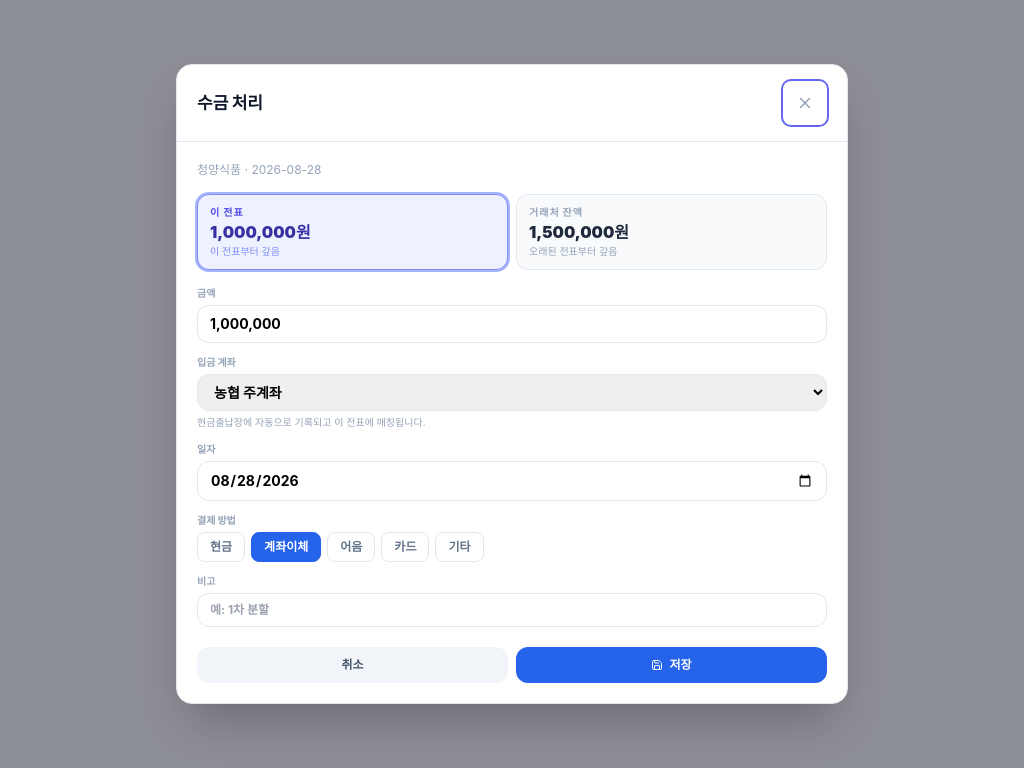
수금·지불 — 전표에서 연다 › 금액이 0이면 저장 단추가 안 눌린다
Clear the 1st field at x=512, y=324, box [197,305,827,343]
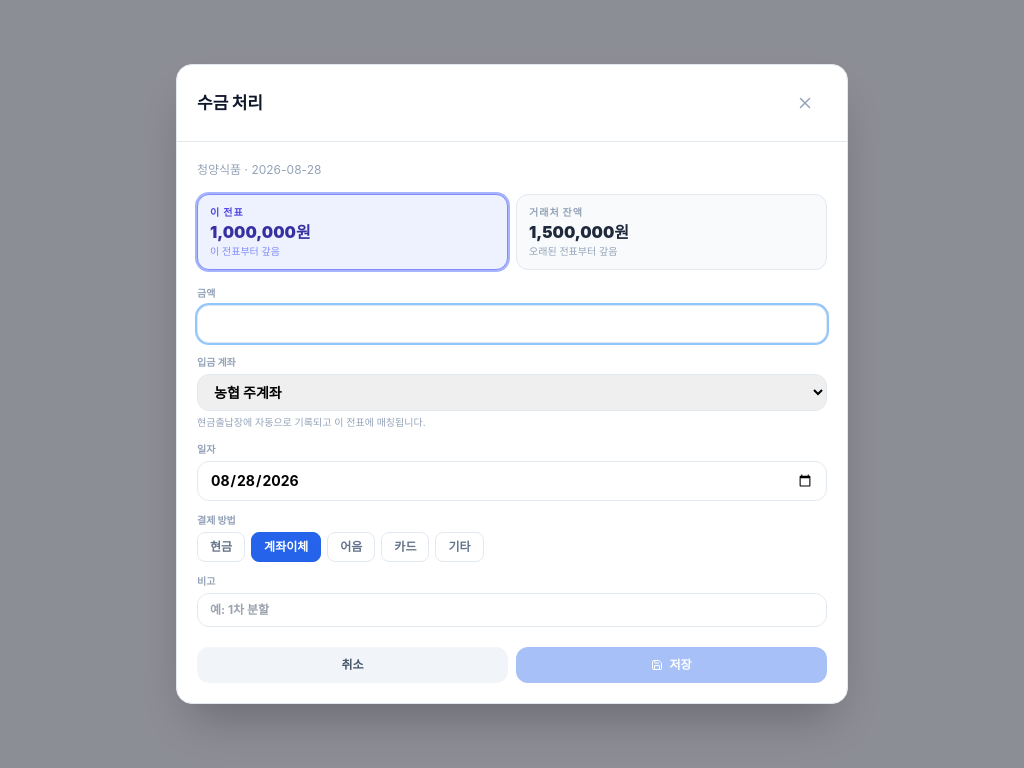
Now the button "저장" is disabled, box [516,647,827,683]
